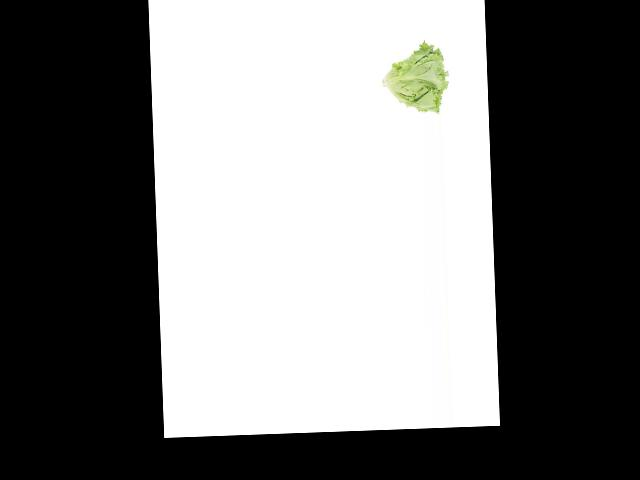lettuce: (379, 42, 453, 116)
